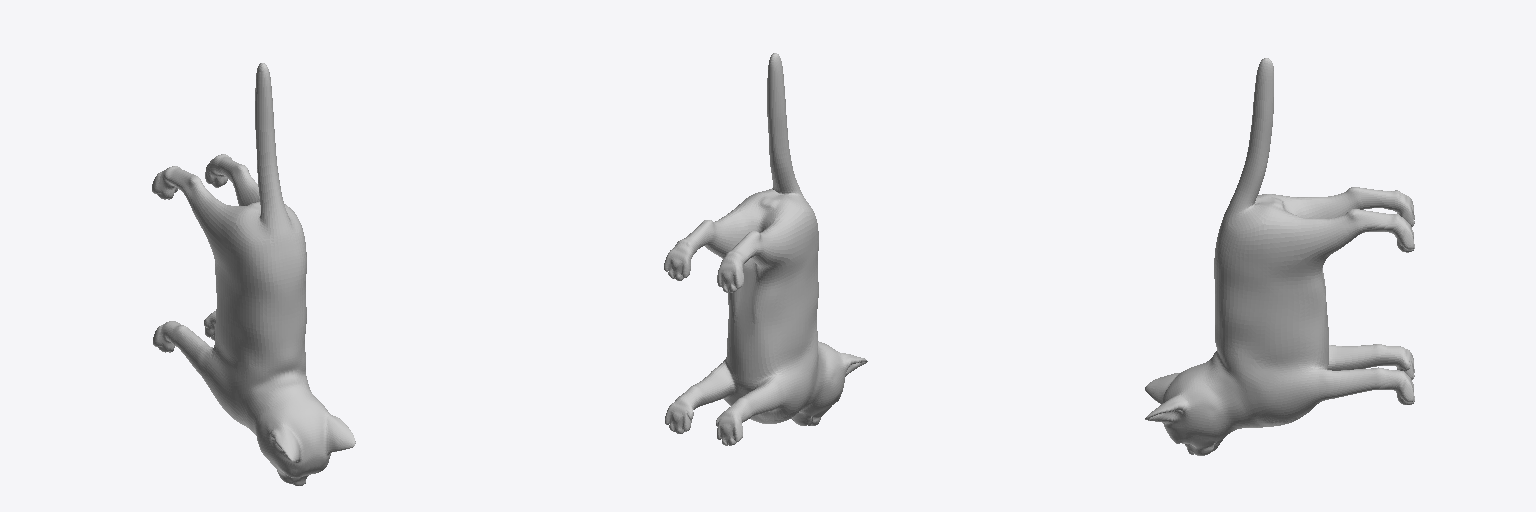
The model's file is cat1.obj.
The picture shows the model from 3 angles: view 1: azimuth 30°, elevation 25°; view 2: azimuth 150°, elevation 25°; view 3: azimuth 270°, elevation 25°; orthographic projection.
Visible parts, largest first — view 1: Object.1; view 2: Object.1; view 3: Object.1.
Boxes of the visible parts, box(x1,y1,x2,y2) form: Object.1: box(152, 63, 355, 485); Object.1: box(664, 53, 867, 445); Object.1: box(1145, 58, 1414, 455).
Size of the model in its own units: 12.55 by 60.88 by 37.61.